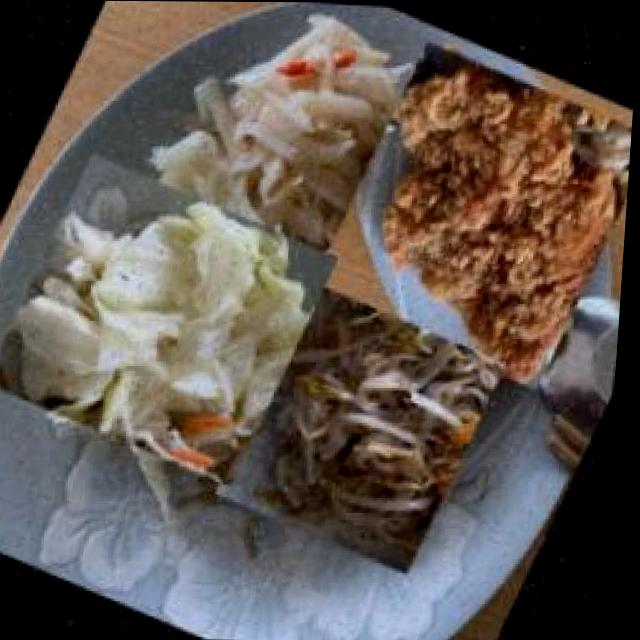chinese_cabbage: (0, 143, 351, 495)
fried_chicken: (302, 32, 638, 392)
mung_bean_sprouts: (210, 279, 520, 576)
